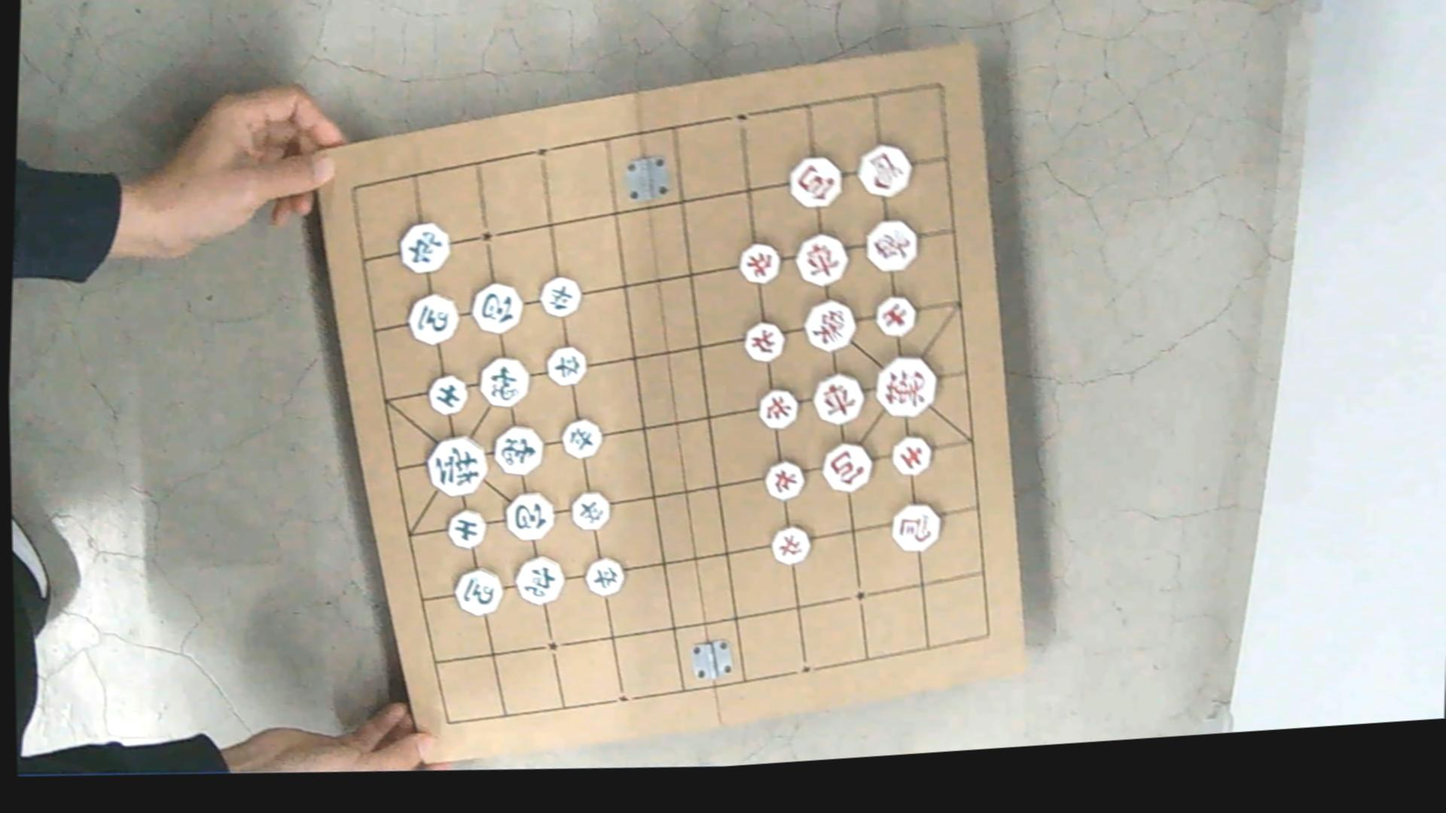cha_green: (398, 221, 450, 275), (514, 553, 564, 607)
cha_red: (794, 231, 848, 287), (812, 370, 864, 426)
jol_green: (538, 274, 581, 318), (545, 344, 587, 388), (560, 417, 602, 459), (584, 556, 624, 597), (570, 490, 609, 531)
jol_red: (737, 240, 780, 285), (756, 386, 799, 430), (742, 319, 784, 364), (763, 458, 805, 501), (770, 524, 810, 565)
ma_green: (406, 291, 459, 346), (452, 565, 503, 617)
ma_red: (855, 142, 911, 199), (889, 500, 941, 553)
po_green: (470, 280, 521, 334), (503, 489, 554, 542)
po_red: (786, 154, 842, 209), (820, 440, 872, 493)
sa_green: (426, 373, 468, 416), (446, 507, 487, 549)
sa_red: (873, 294, 917, 338), (889, 434, 932, 477)
sang_green: (477, 355, 529, 409), (491, 424, 542, 477)
sang_red: (802, 297, 856, 353), (865, 218, 919, 273)
wang_green: (426, 434, 489, 499)
wang_red: (874, 352, 938, 419)
